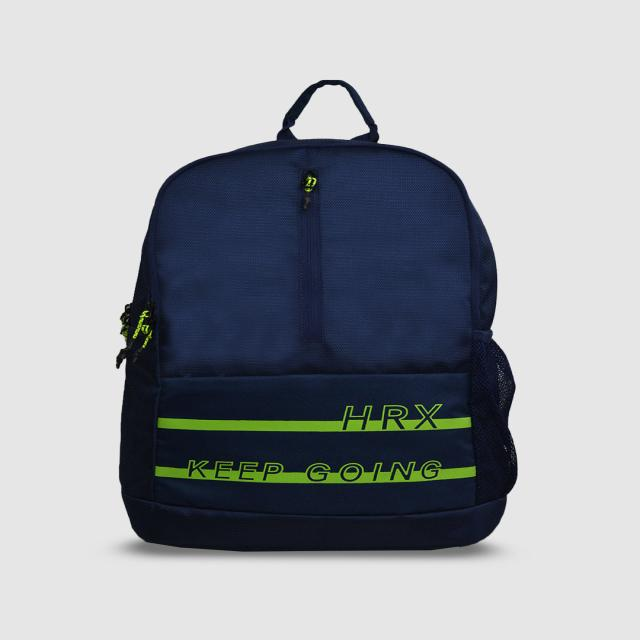backpack: (115, 79, 518, 552)
